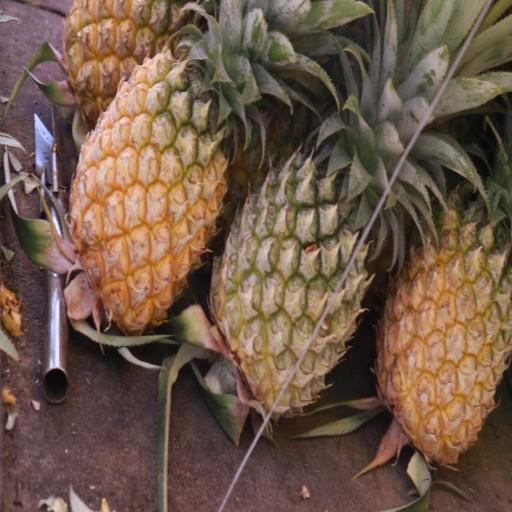Pineapple - v8 v1: (65, 3, 234, 343), (375, 91, 512, 466)
